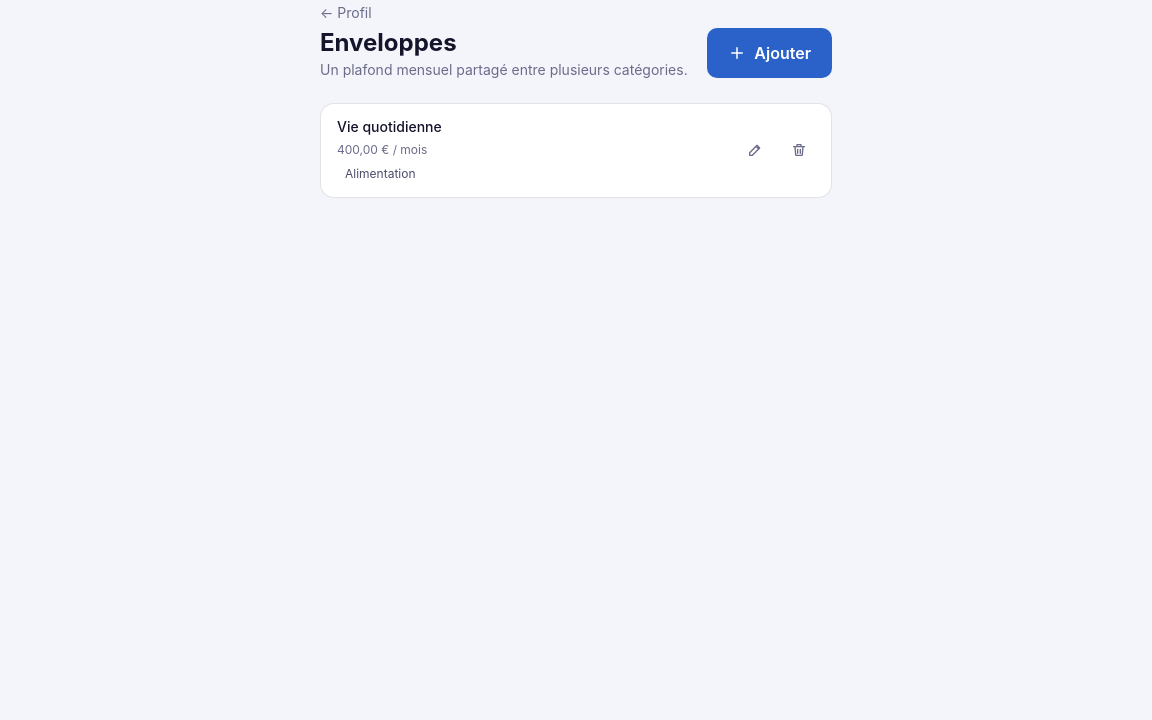
Test: EnvelopesPage — édition › « Modifier » ouvre la modale préremplie
This screenshot has width=1152, height=720.
Click the button named "Modifier Vie quotidienne": (755,150) [739,134,771,166]
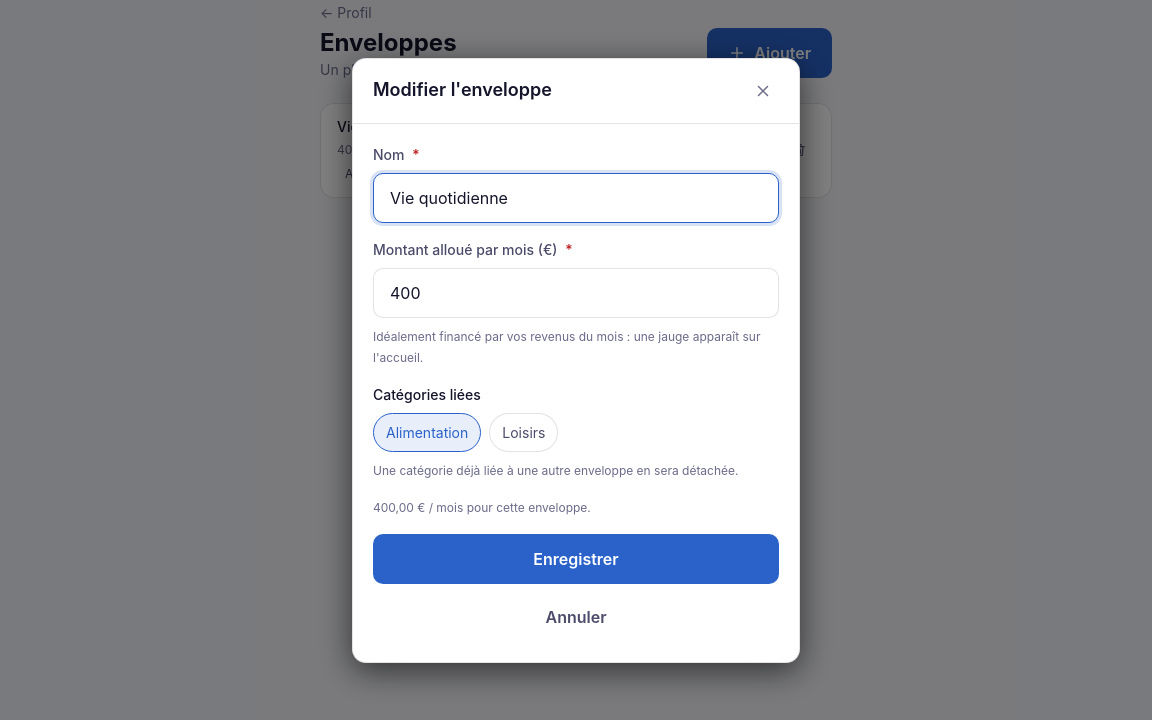
Result: the dialog shows "Modifier l'enveloppe" at [373,79,552,100]
Result: the field with id "envelope-name" holds "Vie quotidienne" at [373,172,779,222]
